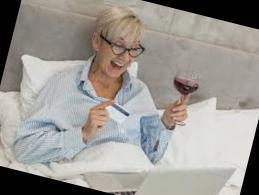Drunk: (104, 23, 138, 78)
